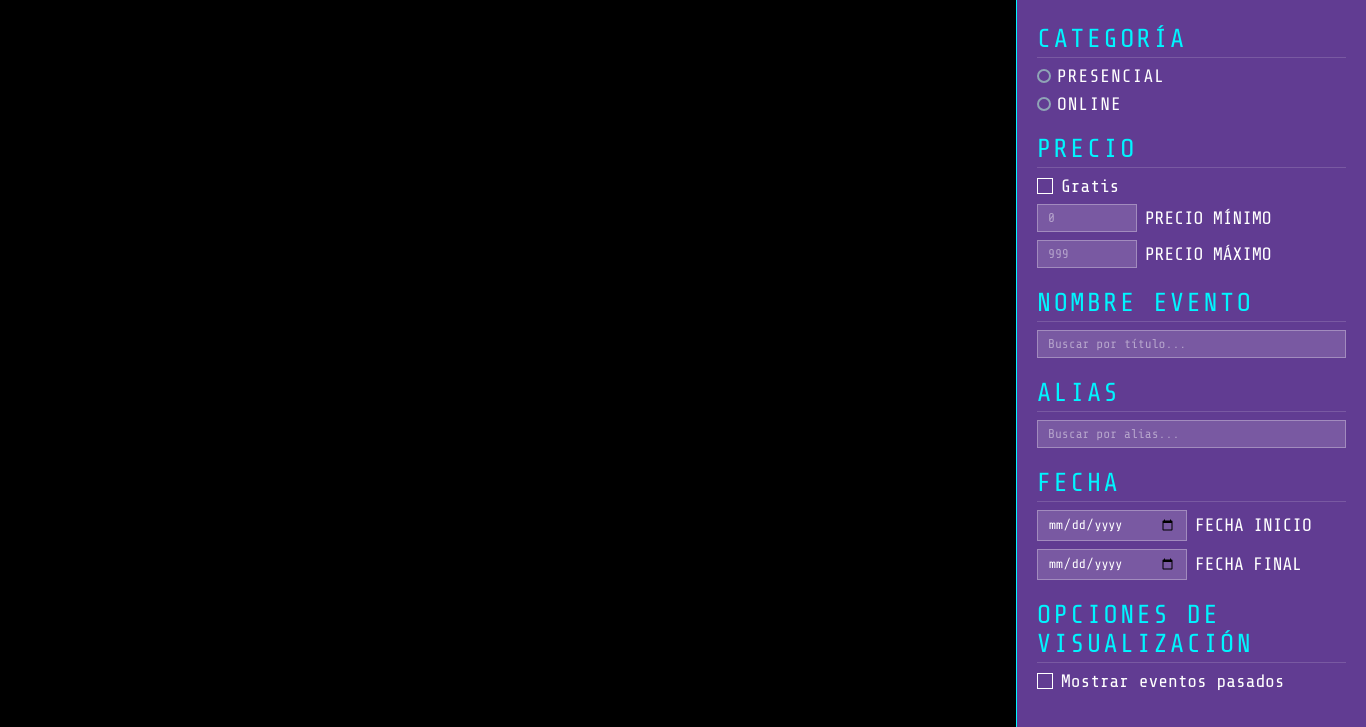
Test: FilterPanel › limpia la categoría al hacer click en 'Limpiar selección'
Click the radio button labelled "Presencial" at point(1101, 76), box [1037,66,1165,86]
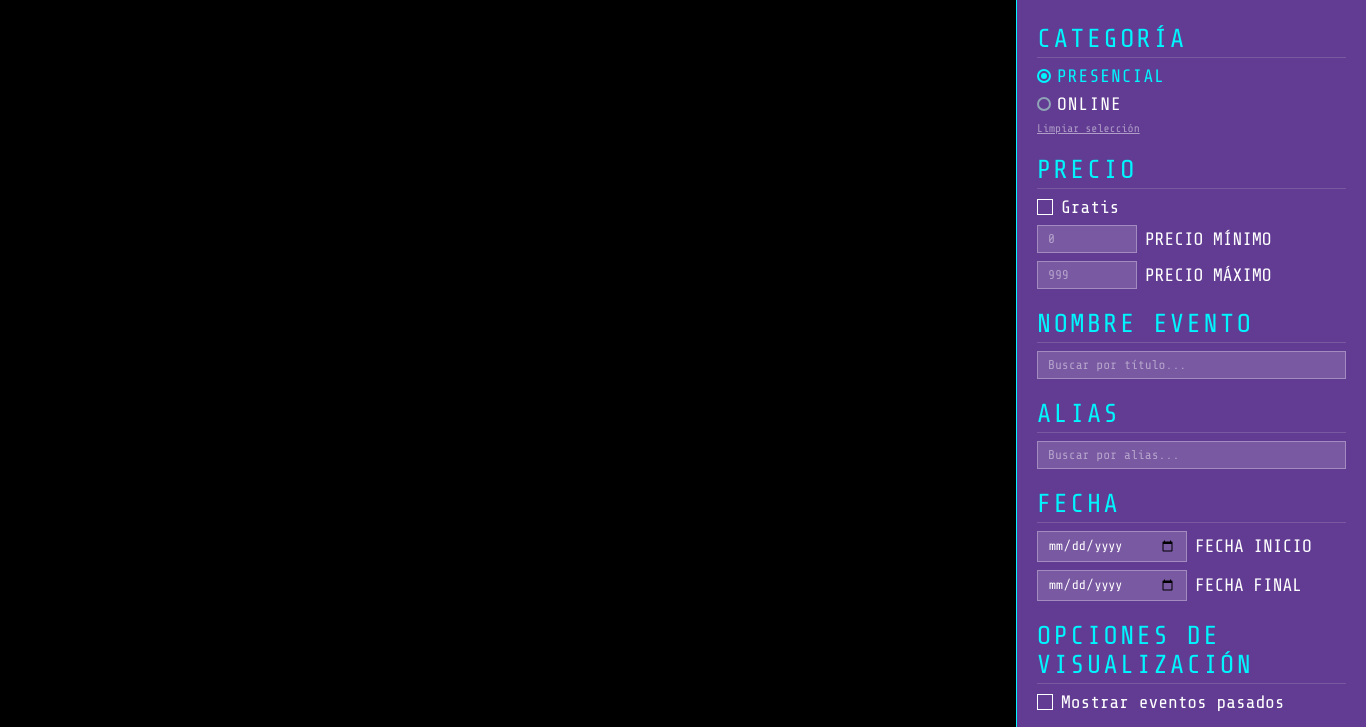
Click the button "Limpiar selección" at point(1088, 128), box [1037,122,1140,135]
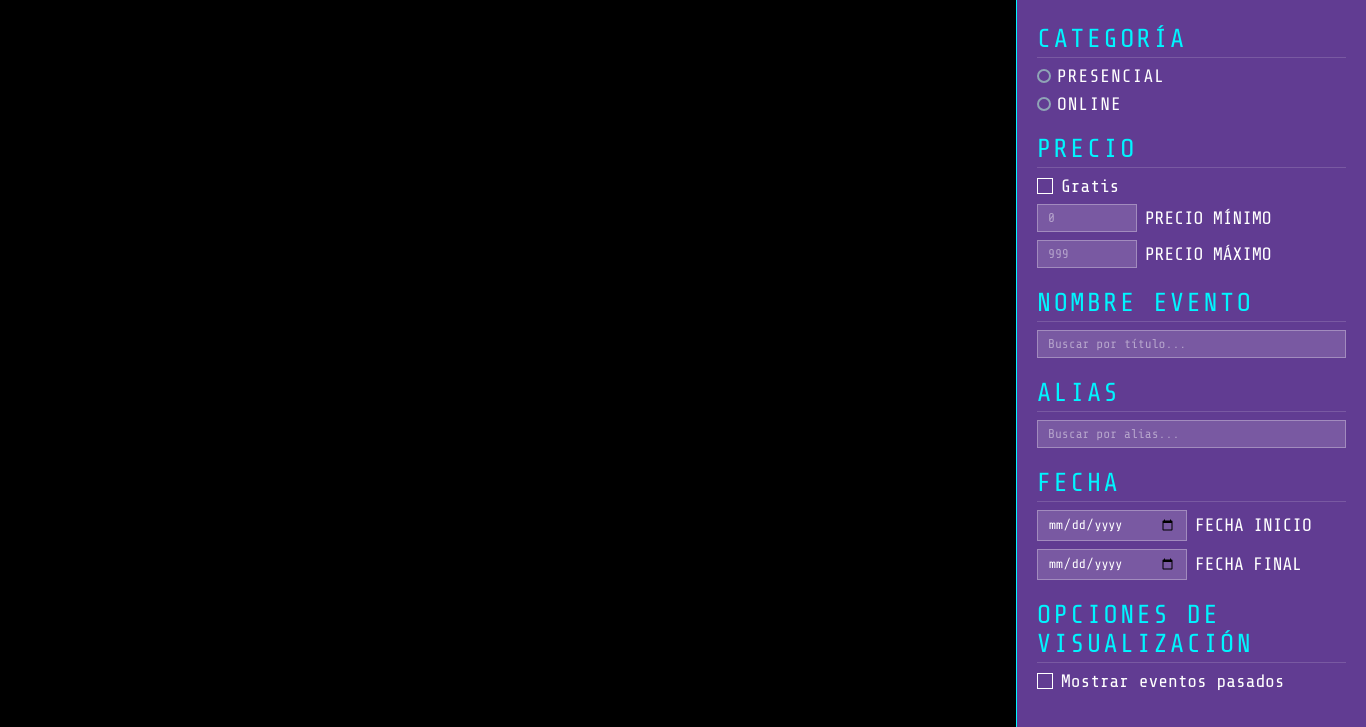
Expected: the radio button labelled "Presencial" is not checked, [1037,66,1165,86]
Expected: the button "Limpiar selección" is gone
